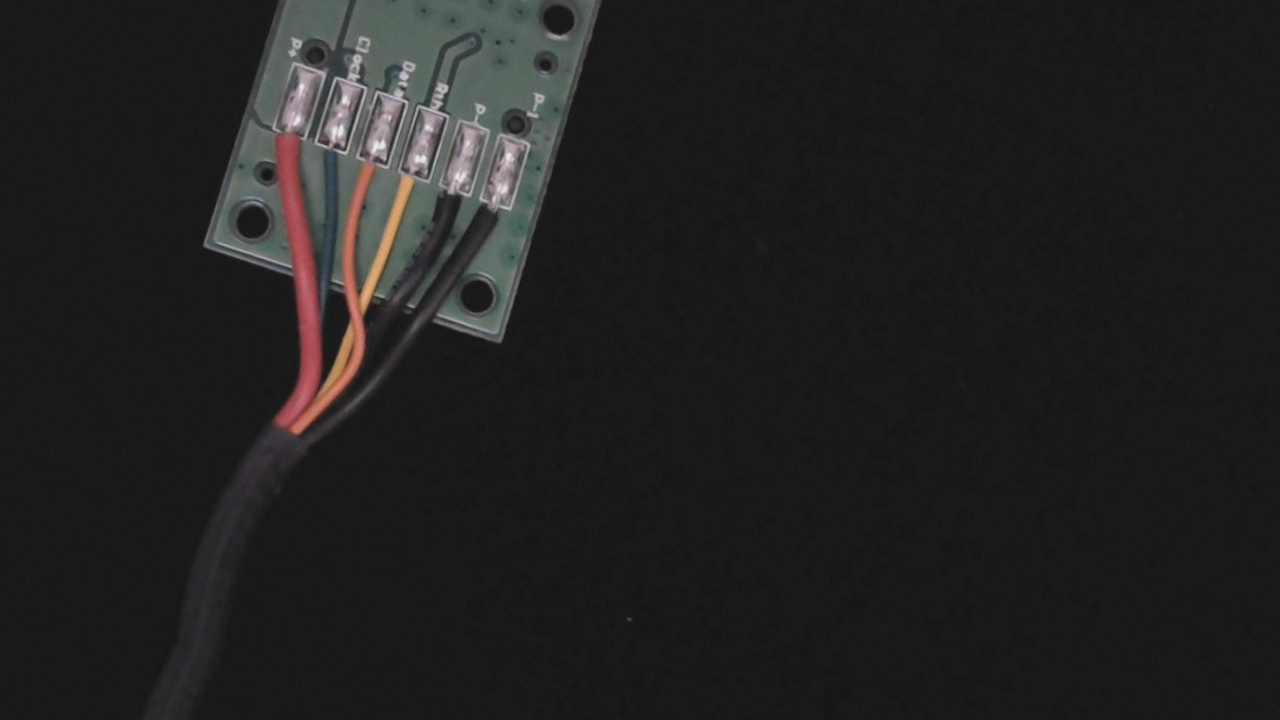Black: (420, 169, 473, 247)
Black1: (459, 184, 517, 267)
Green: (301, 126, 355, 199)
Orange: (340, 141, 393, 214)
Red: (254, 114, 308, 191)
Yellow: (379, 152, 438, 233)
